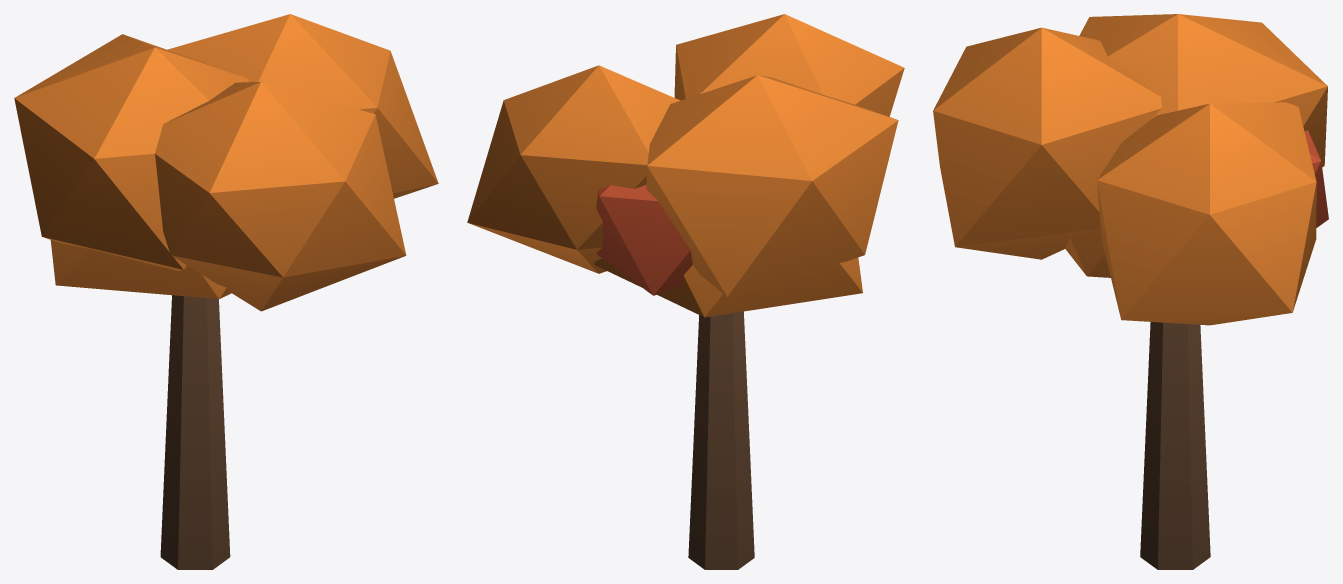
File: tree_O.glb
The picture shows the model from 3 angles, left to right: view 1: azimuth 30°, elevation 25°; view 2: azimuth 150°, elevation 25°; view 3: azimuth 270°, elevation 25°; orthographic projection. The views are drawn at different scales.
Visible parts, largest first — view 1: tree_O; view 2: tree_O; view 3: tree_O.
Part boxes in pixels (x1=…): tree_O: x1=14, y1=14, x2=438, y2=569; tree_O: x1=467, y1=14, x2=904, y2=569; tree_O: x1=933, y1=14, x2=1328, y2=569.
Size of the model in its own units: 1.22 by 1.66 by 1.12.
Materials: 1 (1 with a texture image).
